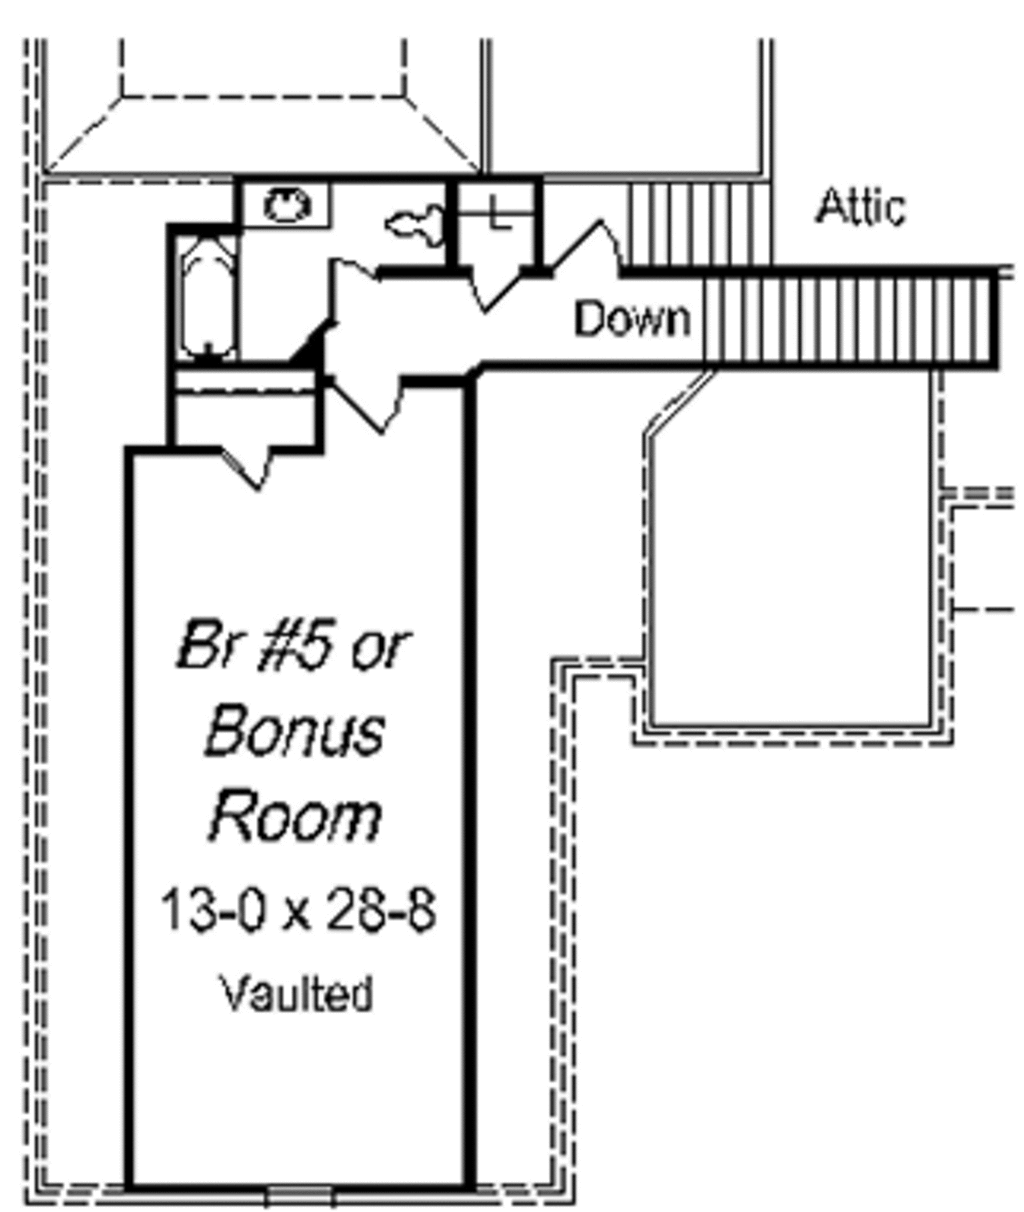door: (323, 362, 420, 449), (553, 221, 625, 289), (327, 252, 390, 319), (453, 265, 535, 313), (218, 439, 275, 502)
large_sink: (381, 184, 457, 254)
small_sink: (244, 178, 327, 226)
stairs: (627, 184, 1024, 389)
tub: (181, 232, 253, 365)
window: (259, 1176, 342, 1208)
